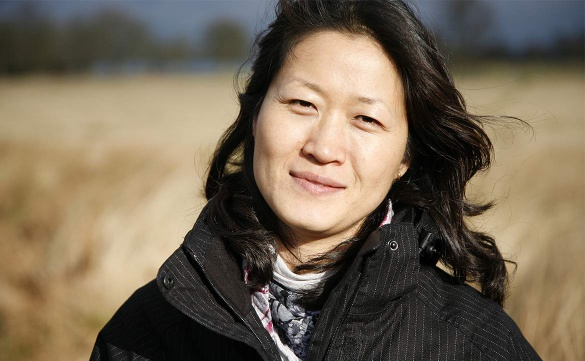female: (230, 1, 459, 267)
